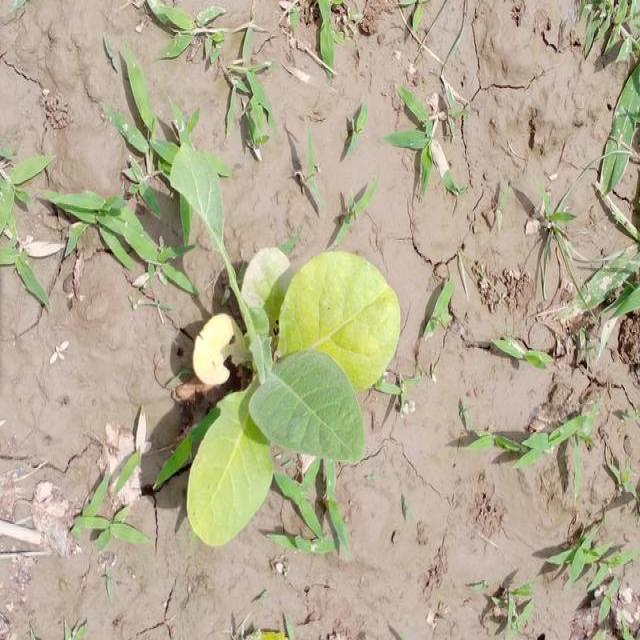crop: (164, 142, 398, 554)
